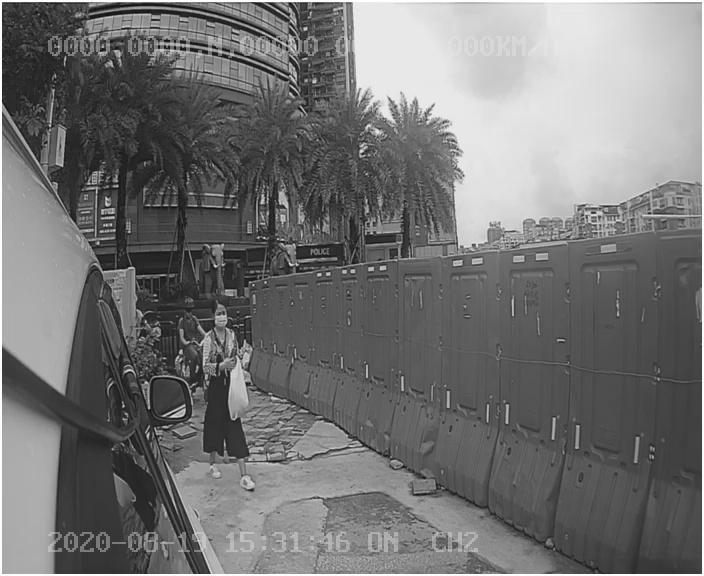person: (193, 303, 274, 495)
